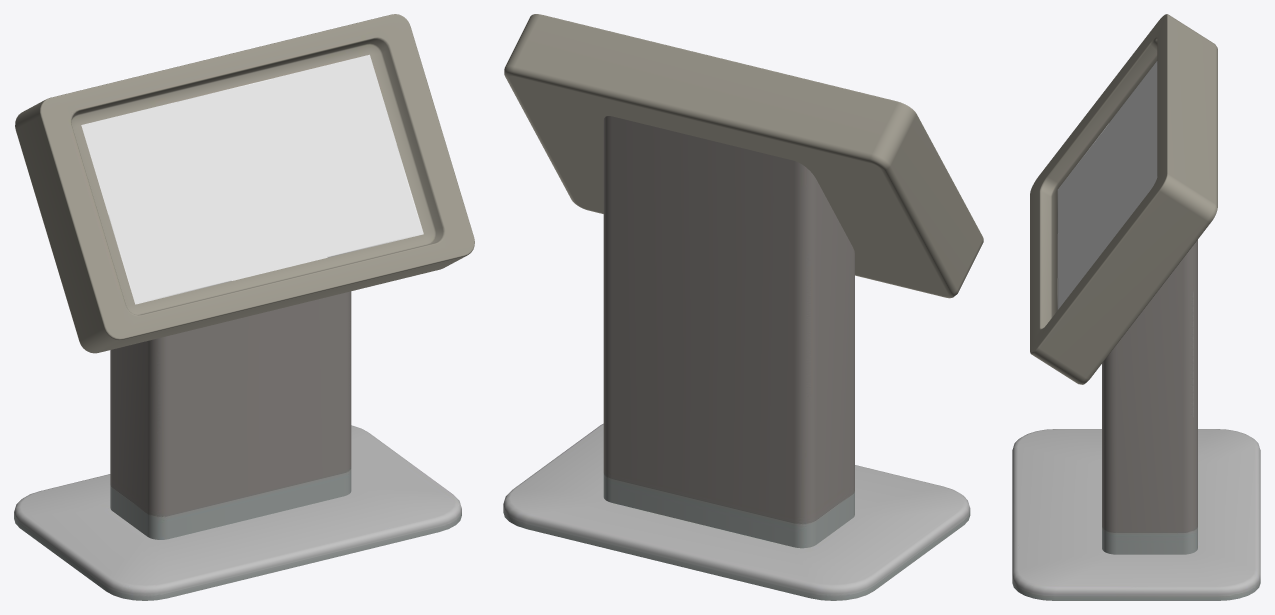
The model's file is Pazzle.fbx.
3 renders of one model, left to right at view 1: azimuth 30°, elevation 25°; view 2: azimuth 150°, elevation 25°; view 3: azimuth 270°, elevation 25°, orthographic. The views are drawn at different scales.
Parts seen in each view (by area): view 1: PazzleStand, Pazzle6, Pazzle2, Pazzle4, Pazzle1, Pazzle3, Pazzle5; view 2: PazzleStand; view 3: PazzleStand, Pazzle4, Pazzle5, Pazzle2, Pazzle1, Pazzle6, Pazzle3.
Part boxes in pixels (left/top/right/bottom): PazzleStand: left=14, top=14, right=474, bottom=600; Pazzle6: left=301, top=144, right=423, bottom=257; Pazzle2: left=177, top=78, right=300, bottom=191; Pazzle4: left=108, top=191, right=231, bottom=304; Pazzle1: left=81, top=101, right=204, bottom=214; Pazzle3: left=273, top=54, right=396, bottom=167; Pazzle5: left=204, top=168, right=327, bottom=280; PazzleStand: left=503, top=14, right=983, bottom=600; PazzleStand: left=1012, top=14, right=1260, bottom=600; Pazzle4: left=1057, top=123, right=1108, bottom=233; Pazzle5: left=1057, top=168, right=1108, bottom=277; Pazzle2: left=1109, top=105, right=1157, bottom=211; Pazzle1: left=1109, top=61, right=1157, bottom=167; Pazzle6: left=1057, top=212, right=1108, bottom=309; Pazzle3: left=1109, top=150, right=1157, bottom=243.
Size of the model in its own units: 129 by 150 by 79.18.
5 materials, 2 textured.
